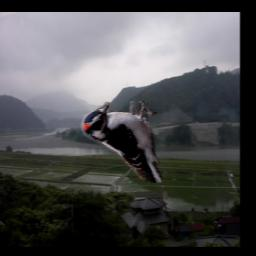Woodpecker: (82, 102, 163, 184)
